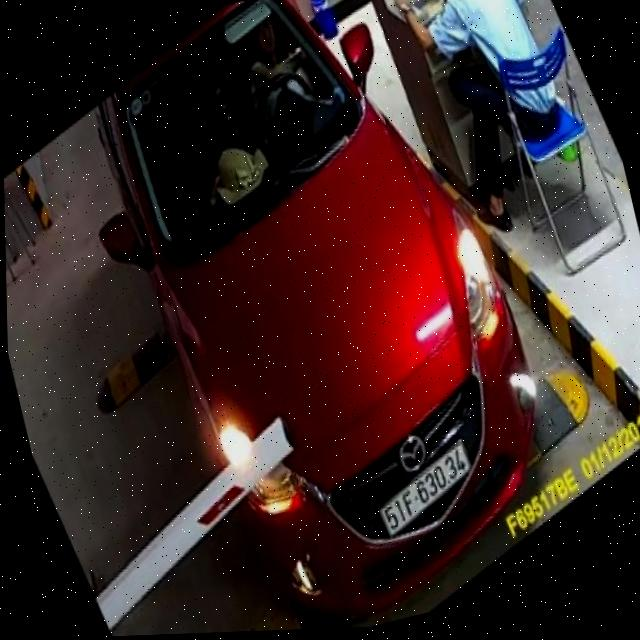car: (50, 0, 577, 638)
plate: (367, 437, 487, 541)
